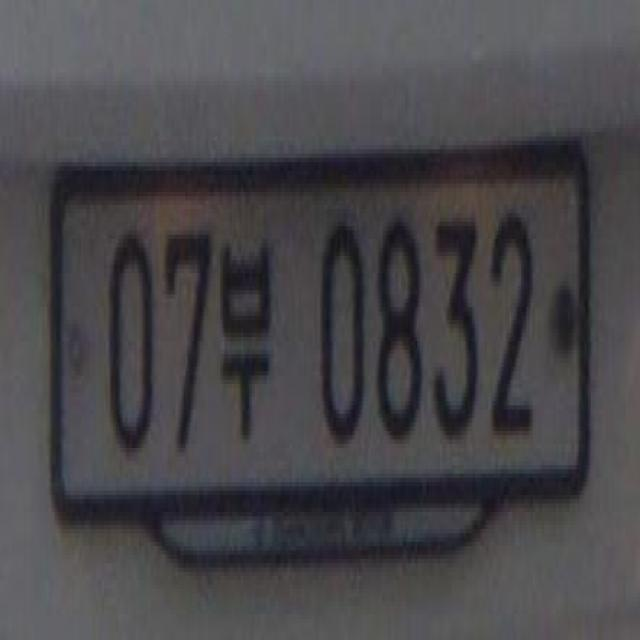illegal_plate: (50, 138, 599, 551)
